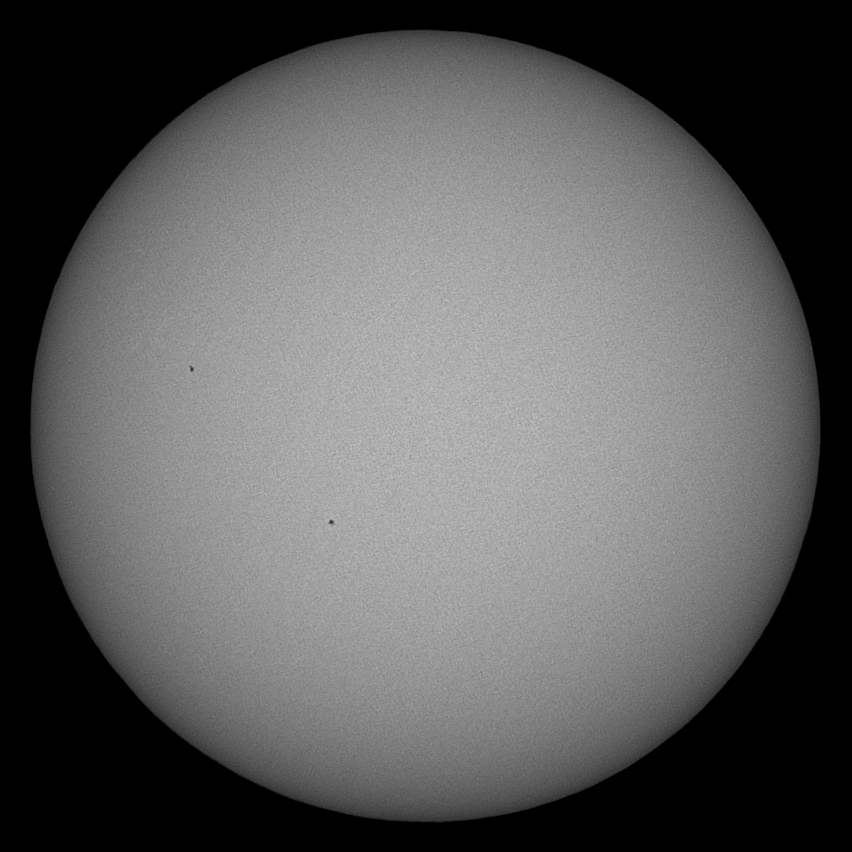sunspot: (325, 516, 340, 532), (187, 363, 200, 376)
